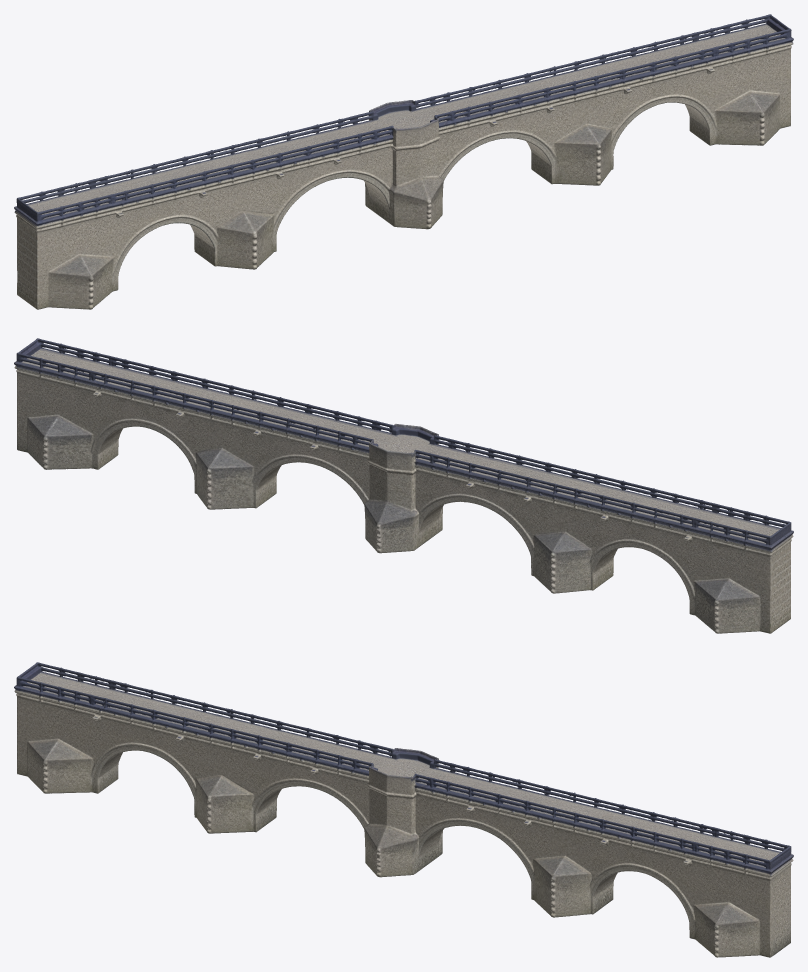
The model's file is caglayan-koprusu.glb.
3 views of the same model, one above another, from view 1: azimuth 30°, elevation 25°; view 2: azimuth 150°, elevation 25°; view 3: azimuth 330°, elevation 25° (orthographic).
Parts seen in each view (by area): view 1: Mesh_0.002; view 2: Mesh_0.002; view 3: Mesh_0.002.
Boxes of the visible parts, box(x1,y1,x2,y2) form: Mesh_0.002: box(14, 14, 793, 309); Mesh_0.002: box(14, 338, 793, 633); Mesh_0.002: box(14, 662, 793, 957).
Size of the model in its own units: 1.9 by 0.2352 by 0.2278.
Materials: 1 (1 with a texture image).
